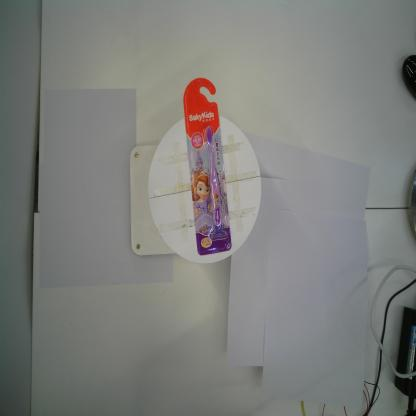Personal Hygiene: (183, 77, 232, 256)
